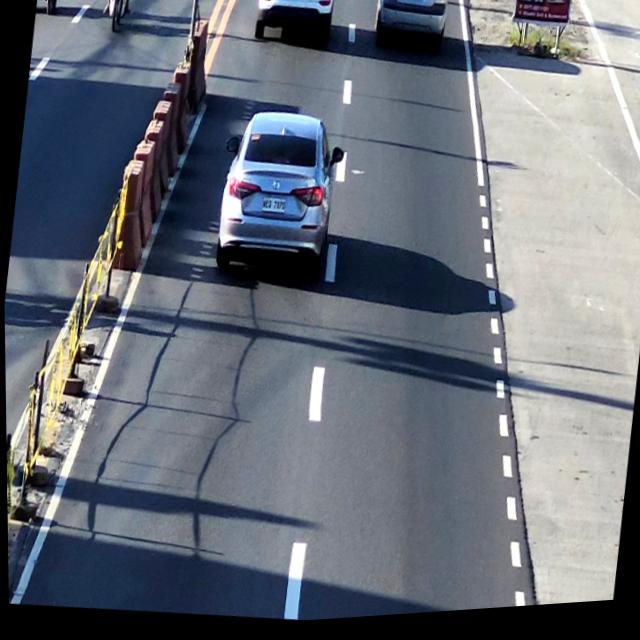Car: (210, 106, 343, 289), (372, 0, 450, 64), (250, 0, 339, 55)
License-Plate: (258, 197, 288, 219), (403, 0, 427, 8), (284, 0, 307, 5)
